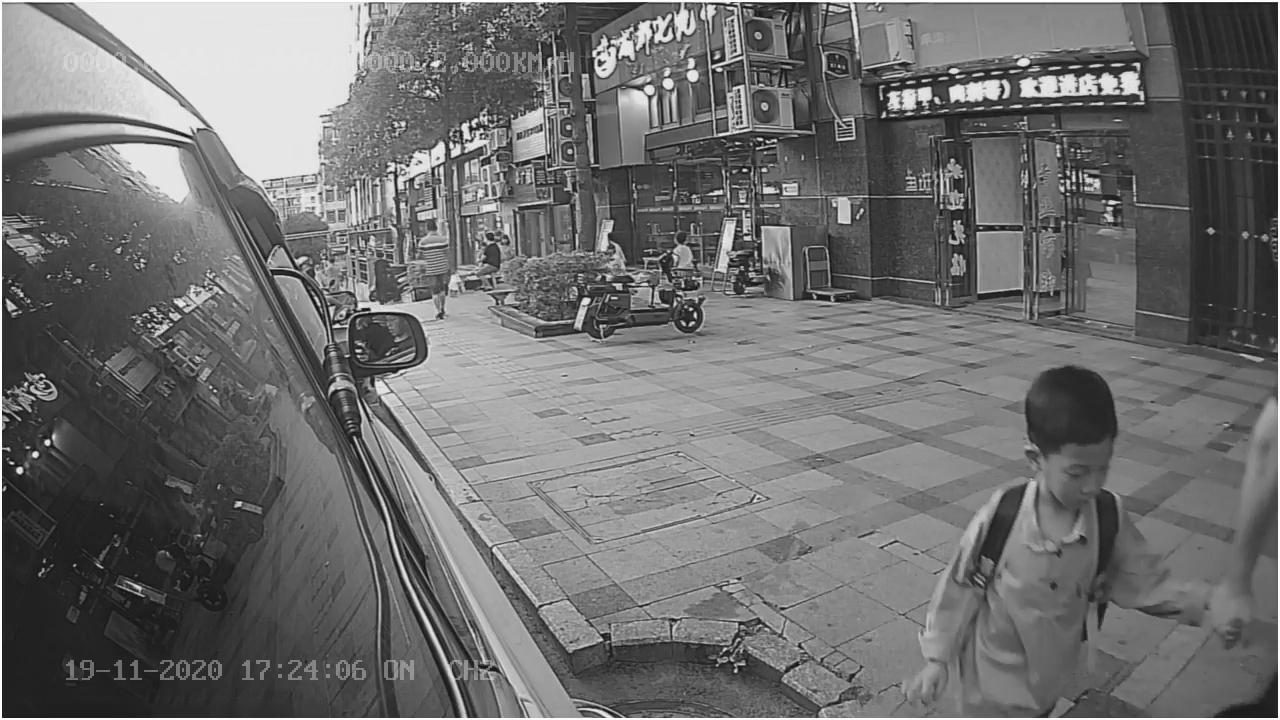person: (915, 359, 1220, 663)
